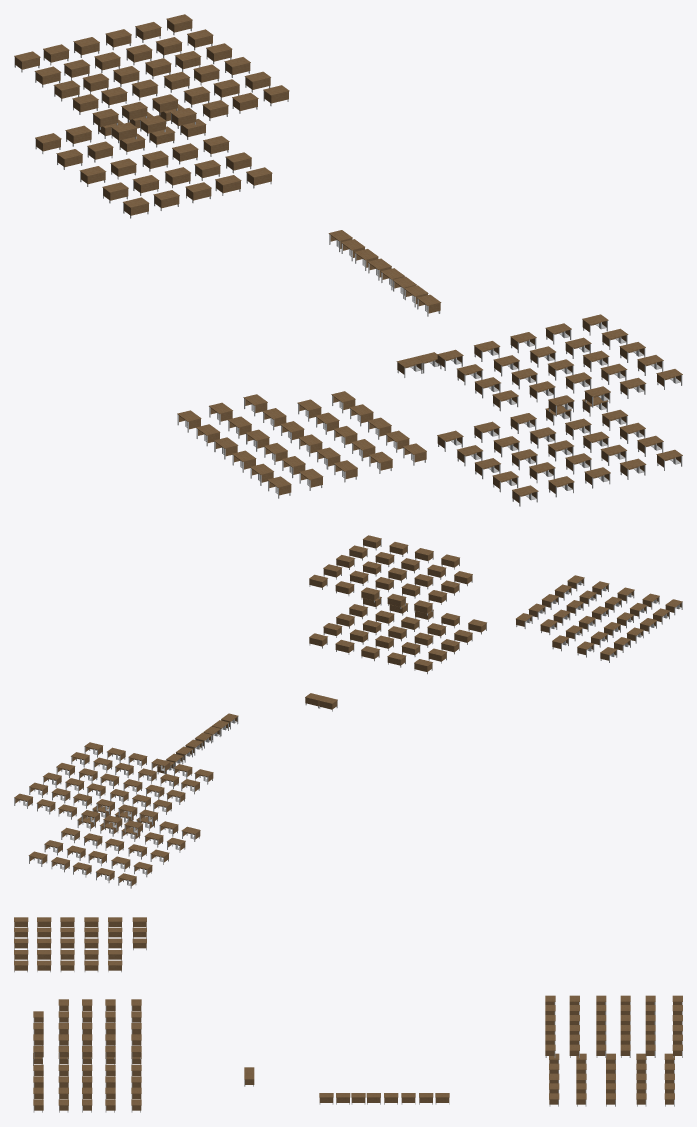
File: MesasPCs.glb
3 renders of one model, top to bottom at view 1: azimuth 30°, elevation 25°; view 2: azimuth 150°, elevation 25°; view 3: azimuth 270°, elevation 25°, orthographic. The views are drawn at different scales.
Visible parts, largest first — view 1: Table_cover_4.145; view 2: Table_cover_4.145; view 3: Table_cover_4.145.
Boxes of the visible parts, x1,y1,x2,y2 form: Table_cover_4.145: [14, 14, 682, 506]; Table_cover_4.145: [14, 535, 682, 888]; Table_cover_4.145: [14, 917, 682, 1112].
Size of the model in its own units: 35.95 by 7.56 by 75.45.
2 materials, 2 textured.
